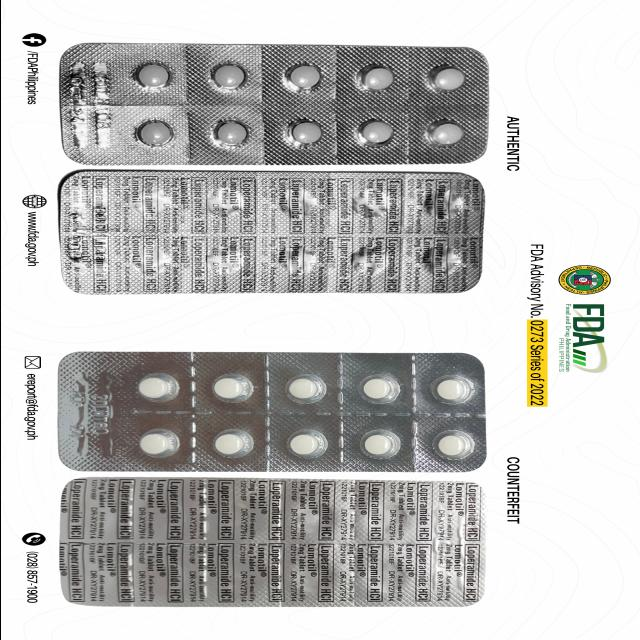authentic: (58, 172, 496, 295), (56, 44, 490, 164)
counterfeit: (58, 481, 480, 605), (56, 351, 492, 469)
